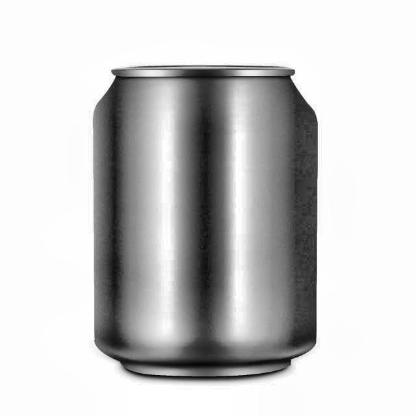Can: (94, 58, 318, 382)
